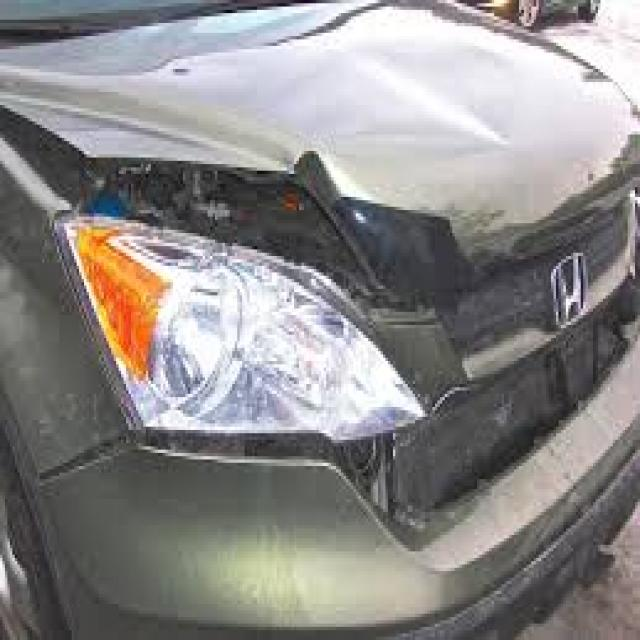moderate: (3, 77, 640, 385)
